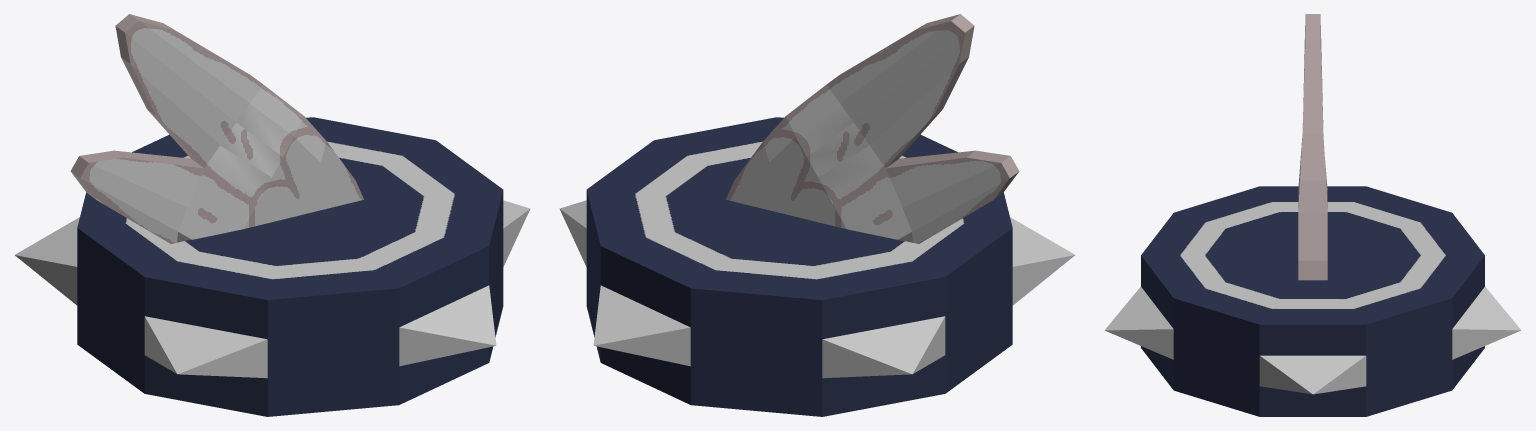
File: pucks.fbx
3 views of the same model, side by side, from view 1: azimuth 30°, elevation 25°; view 2: azimuth 150°, elevation 25°; view 3: azimuth 270°, elevation 25° (orthographic). The views are drawn at different scales.
Parts seen in each view (by area): view 1: Spiked Puck, Wing; view 2: Spiked Puck, Wing; view 3: Spiked Puck, Wing.
Part boxes in pixels (x1=…): Spiked Puck: x1=15, y1=117, x2=530, y2=416; Wing: x1=70, y1=14, x2=363, y2=243; Spiked Puck: x1=559, y1=117, x2=1074, y2=416; Wing: x1=726, y1=14, x2=1019, y2=243; Spiked Puck: x1=1104, y1=186, x2=1521, y2=416; Wing: x1=1298, y1=14, x2=1327, y2=280.
Size of the model in its own units: 2.18 by 2.19 by 1.59.
2 materials, 2 textured.
